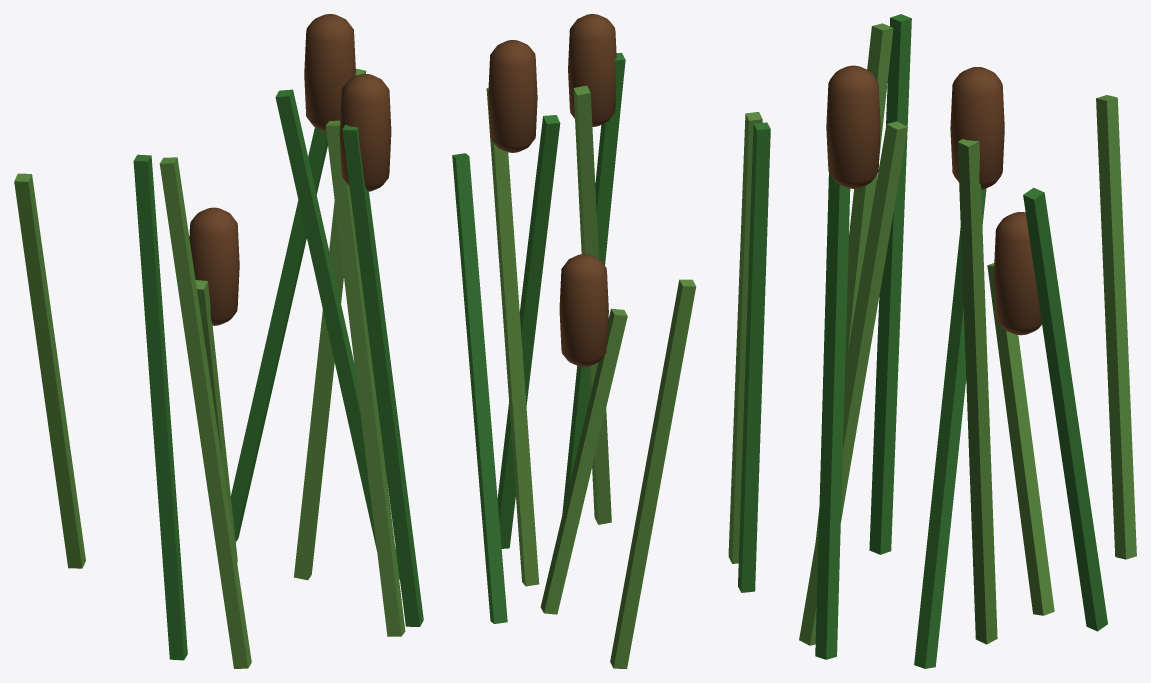
File: reeds_grass.fbx
3 views of the same model, side by side, from view 1: azimuth 30°, elevation 25°; view 2: azimuth 150°, elevation 25°; view 3: azimuth 270°, elevation 25° (orthographic). The views are drawn at different scales.
Parts seen in each view (by area): view 1: reeds; view 2: reeds; view 3: reeds.
Boxes of the visible parts, x1=… form: reeds: x1=14, y1=14, x2=423, y2=668; reeds: x1=452, y1=14, x2=770, y2=668; reeds: x1=799, y1=14, x2=1136, y2=668.
Size of the model in its own units: 0.3326 by 0.5909 by 0.3106.
